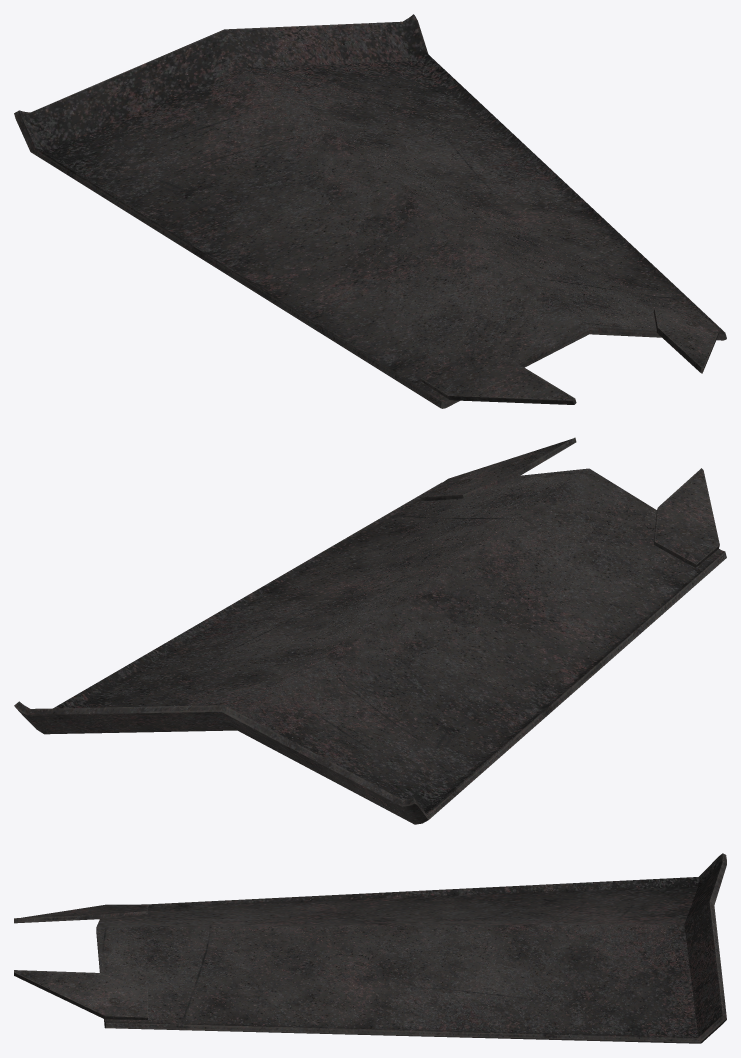
The model's file is wm_isengard_shield_a02_clean.fbx.
3 views of the same model, one above another, from view 1: azimuth 30°, elevation 25°; view 2: azimuth 150°, elevation 25°; view 3: azimuth 270°, elevation 25° (orthographic). The views are drawn at different scales.
Parts seen in each view (by area): view 1: wm_isengard_shield_a02_clean; view 2: wm_isengard_shield_a02_clean; view 3: wm_isengard_shield_a02_clean.
Boxes of the visible parts, <box> form: wm_isengard_shield_a02_clean: <box>14,14,726,408</box>; wm_isengard_shield_a02_clean: <box>14,437,726,824</box>; wm_isengard_shield_a02_clean: <box>14,853,726,1043</box>.
Bounding box in the file's own units: 0.7936 × 1.45 × 0.1817.
Materials: 1 (1 with a texture image).
